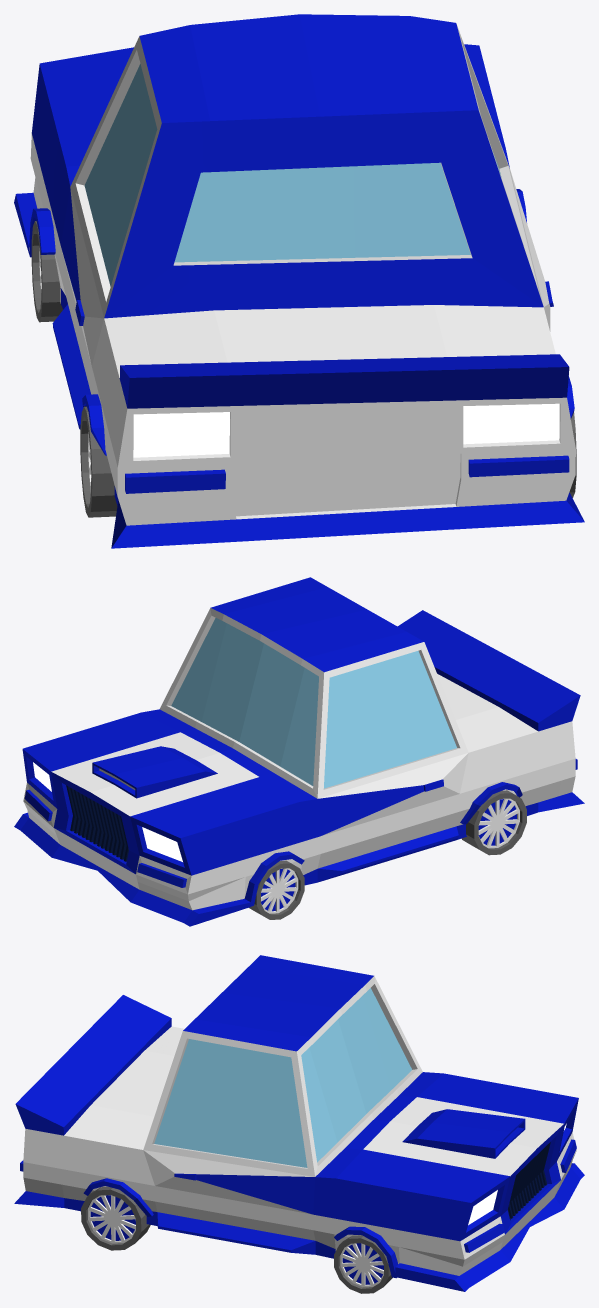
The model's file is blue.fbx.
3 renders of one model, top to bottom at view 1: azimuth 30°, elevation 25°; view 2: azimuth 150°, elevation 25°; view 3: azimuth 270°, elevation 25°, orthographic. The views are drawn at different scales.
Visible parts, largest first — view 1: body, backlight, wheel_1, wheel1_1, front_fender, rear_fender; view 2: body, wheel_1, lattice_1, wheel1_1, headlight, front_fender, rear_fender; view 3: body, wheel_1, wheel1_1, lattice_1, front_fender, rear_fender, headlight.
Part boxes in pixels (box(x1,y1,x2,y2)): body: box(14, 14, 584, 548); backlight: box(133, 403, 559, 457); wheel_1: box(80, 406, 576, 517); wheel1_1: box(31, 221, 62, 322); front_fender: box(29, 189, 526, 257); rear_fender: box(82, 376, 574, 455); body: box(14, 577, 584, 926); wheel_1: box(461, 790, 526, 855); lattice_1: box(66, 785, 128, 861); wheel1_1: box(249, 860, 304, 919); headlight: box(33, 762, 182, 861); front_fender: box(244, 851, 304, 906); rear_fender: box(460, 782, 522, 824); body: box(14, 955, 584, 1291); wheel_1: box(81, 1187, 150, 1250); wheel1_1: box(334, 1235, 392, 1293); lattice_1: box(508, 1142, 550, 1220); front_fender: box(334, 1226, 398, 1278); rear_fender: box(83, 1178, 153, 1216); headlight: box(468, 1123, 566, 1225).
Size of the model in its own units: 216 by 111 by 264.
